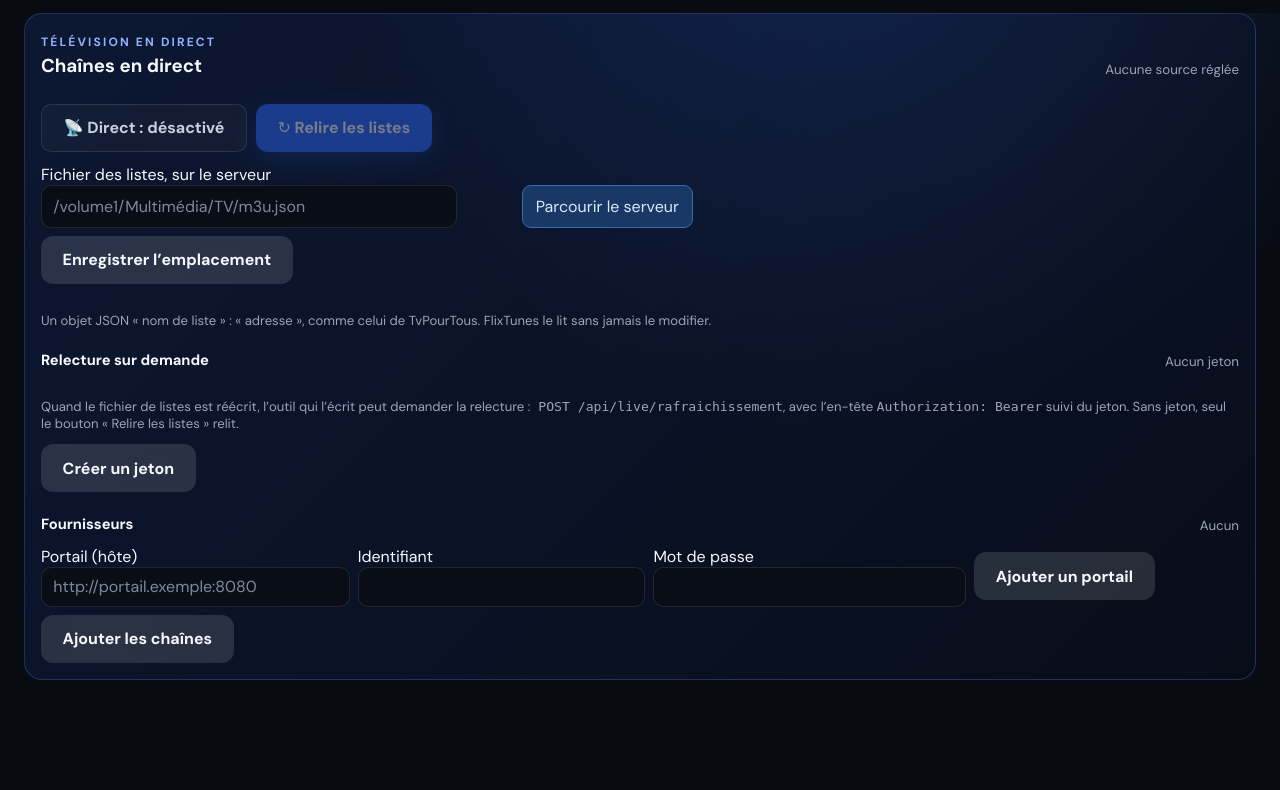
Test: le réglage de la télévision en direct › crée un jeton de demande et le montre, une fois
This screenshot has width=1280, height=790.
Click the button "Créer un jeton": coordinates (118, 468) [41,444,196,492]
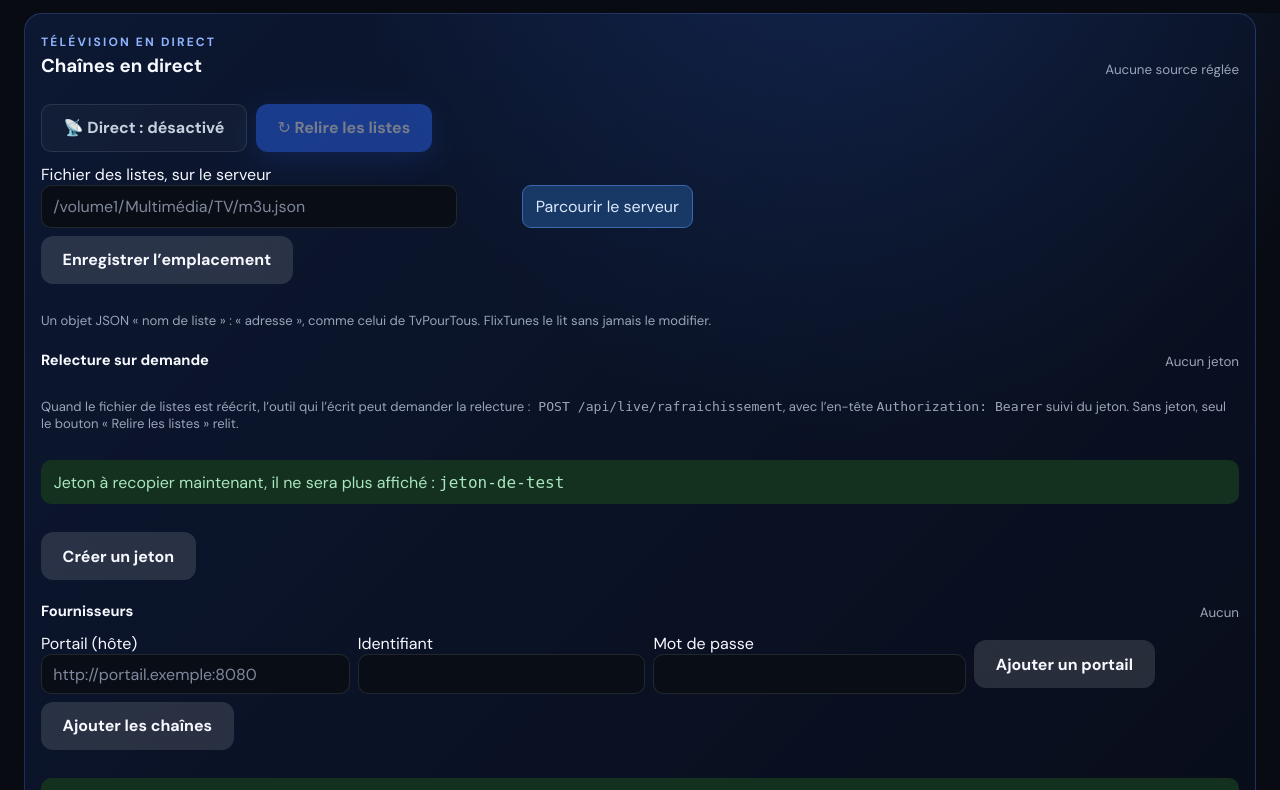
expect the text "jeton-de-test" is shown: met, box [439,473,564,492]
